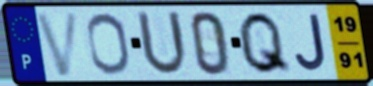0: (188, 9, 231, 77)
J: (293, 12, 330, 73)
O: (84, 11, 133, 77)
Q: (236, 10, 294, 76)
U: (134, 9, 190, 79)
V: (32, 9, 83, 79)
